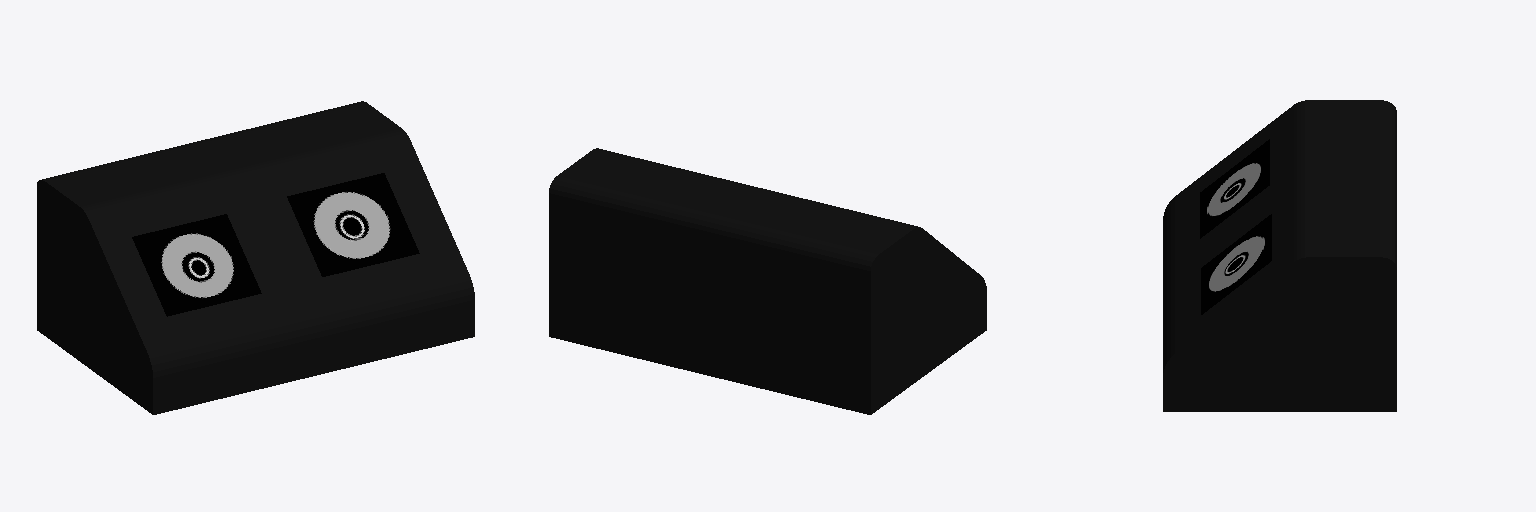
3 renders of one model, left to right at view 1: azimuth 30°, elevation 25°; view 2: azimuth 150°, elevation 25°; view 3: azimuth 270°, elevation 25°, orthographic.
Parts seen in each view (by area): view 1: speaker1; view 2: speaker1; view 3: speaker1.
Boxes of the visible parts, box(x1,y1,x2,y2) form: speaker1: box(37, 101, 474, 414); speaker1: box(549, 148, 986, 414); speaker1: box(1163, 100, 1396, 411).
Bounding box in the file's own units: 1.69 × 0.7749 × 1.06.
Materials: 1 (1 with a texture image).